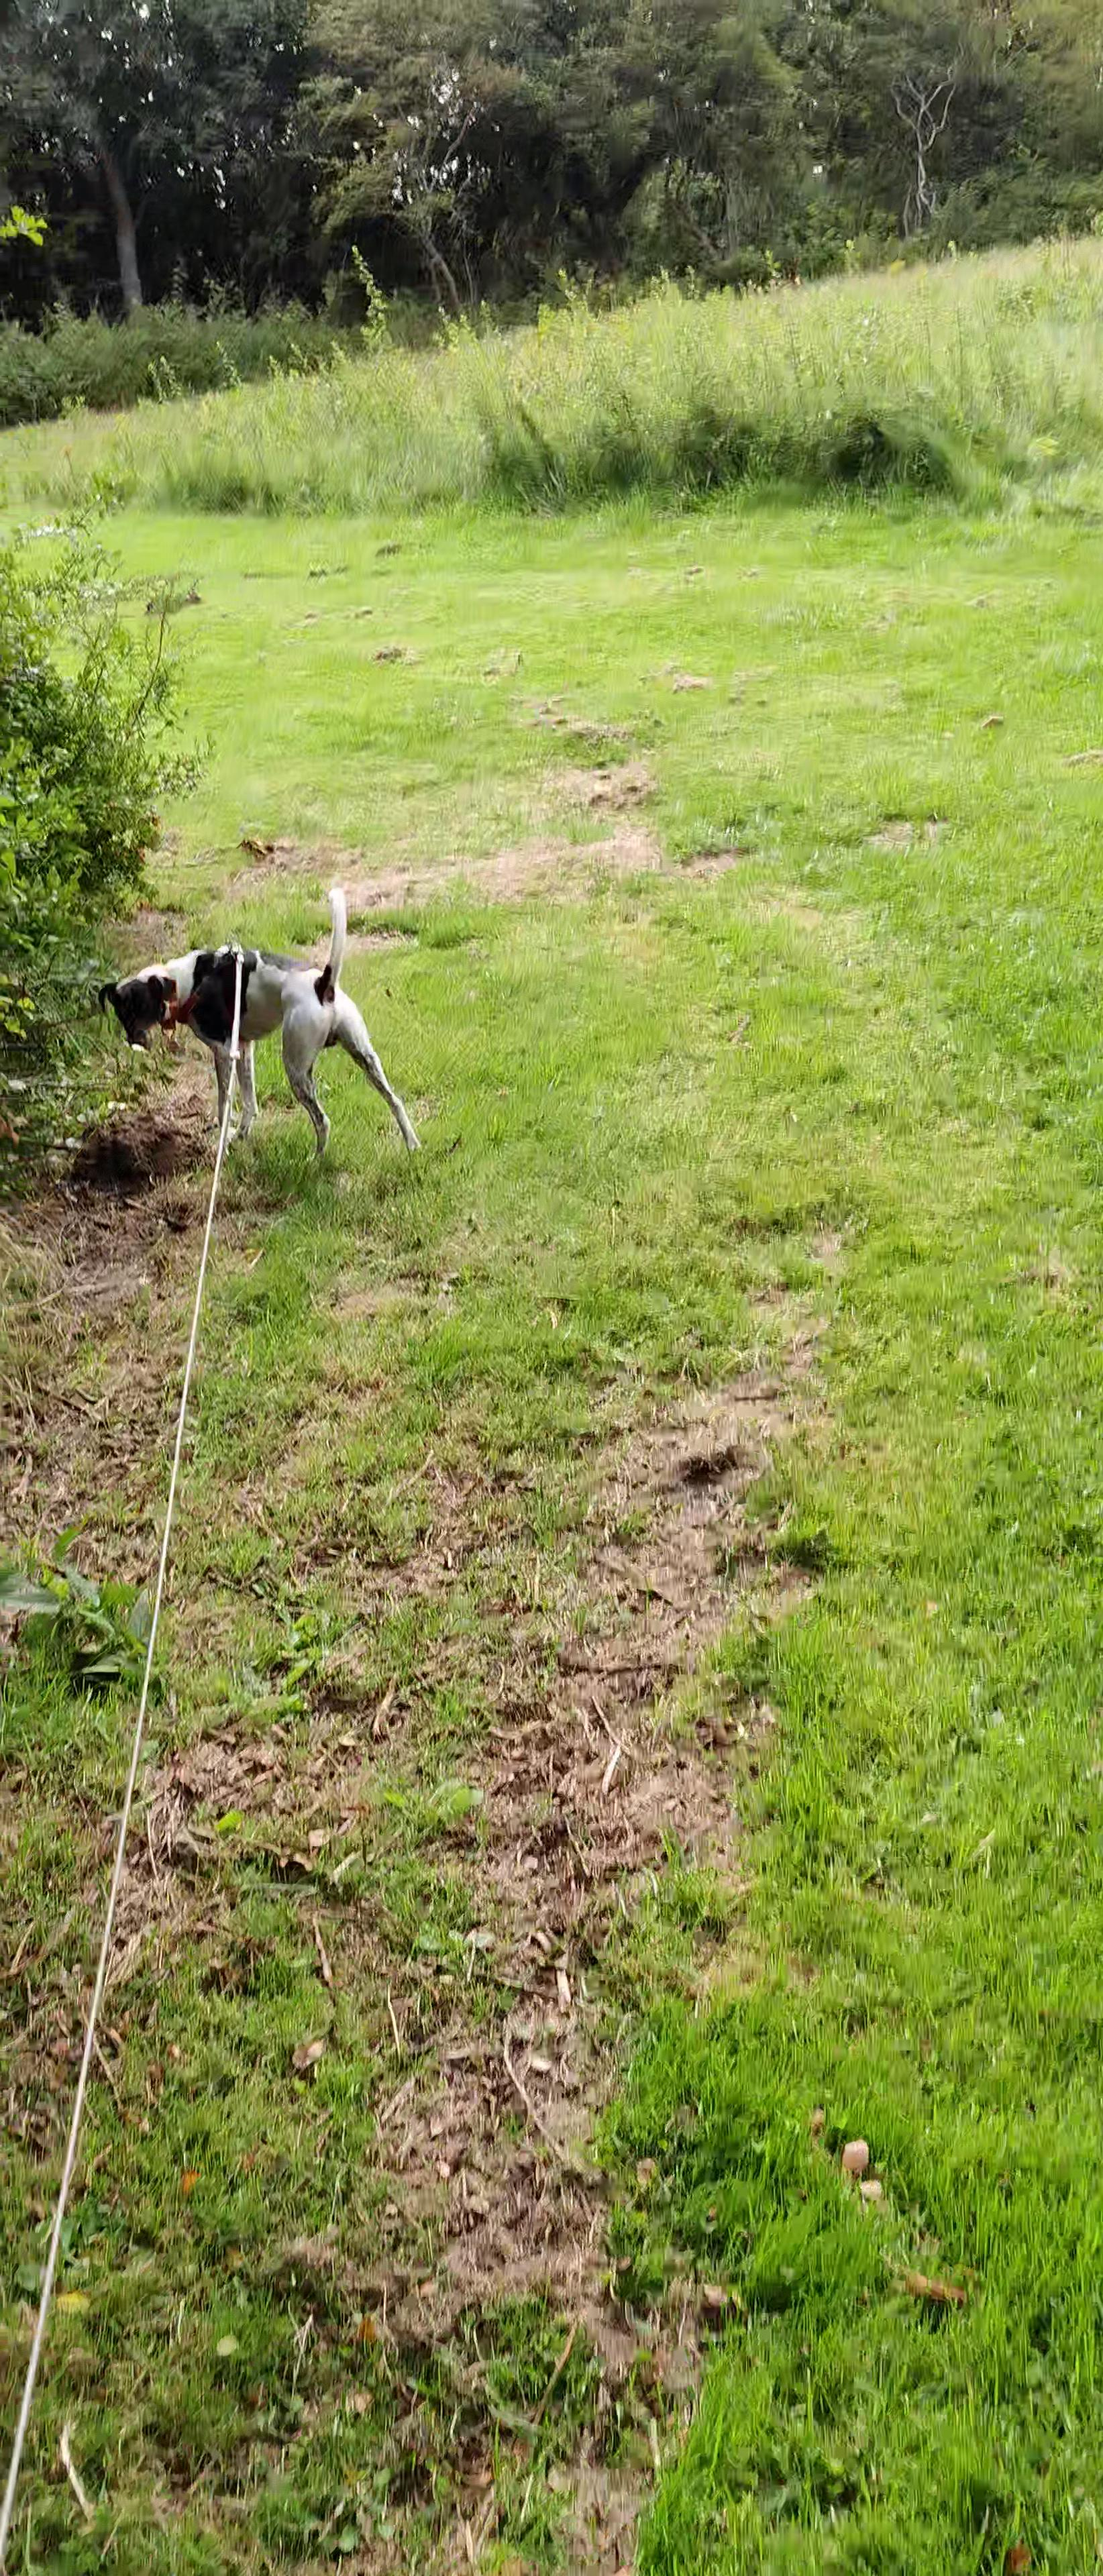Dog: (95, 874, 431, 1168)
